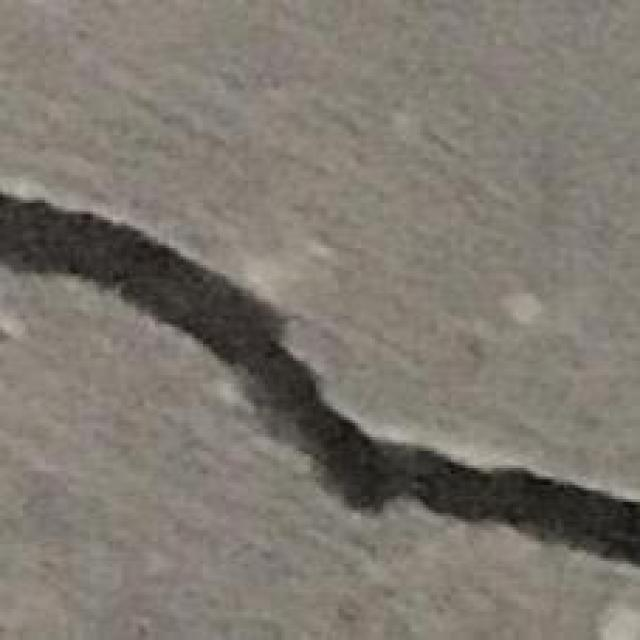Crack: (3, 195, 640, 570)
